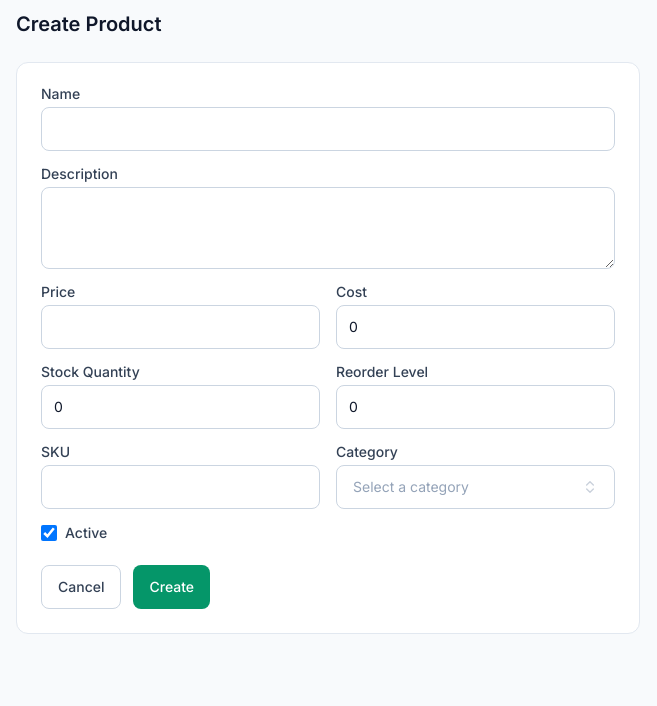
Test case: ProductCreatePage › shows validation errors when submitted empty
Click the button "Create" at point(172, 587), box [134,565,210,609]
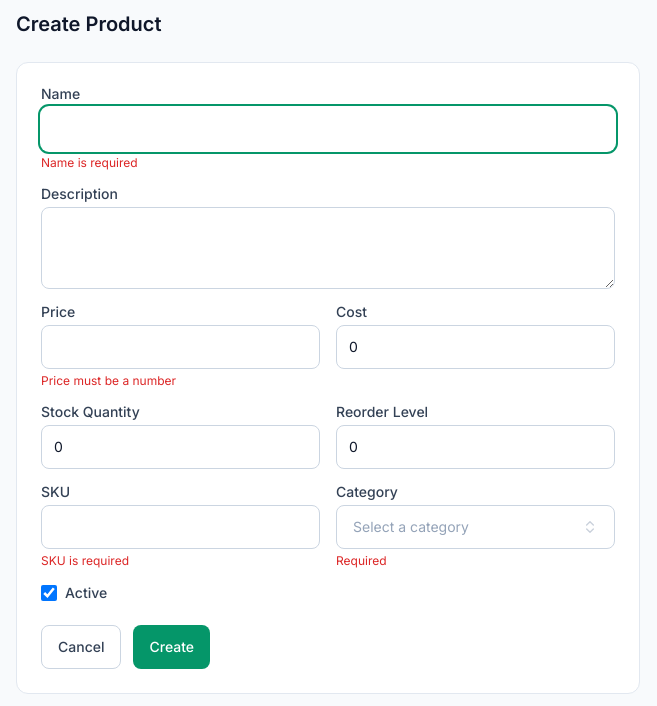
Check: the text "Name is required" is shown, box [41,155,138,170]
